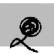not correct: (10, 11, 44, 54)
